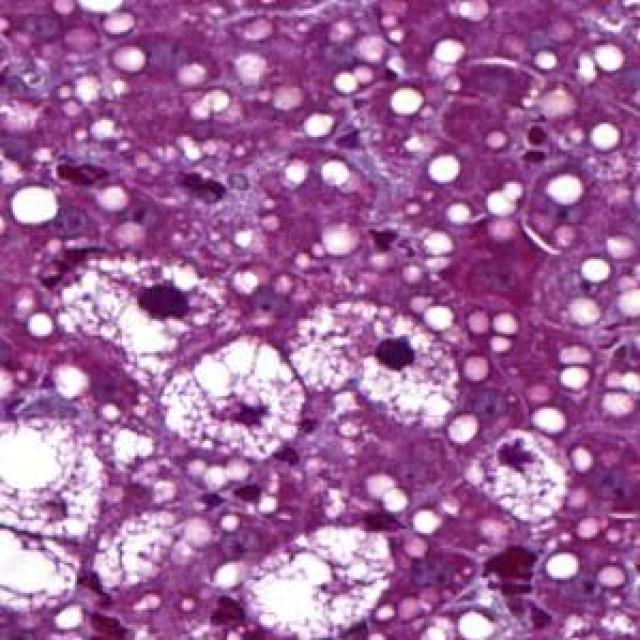ballooning: (274, 291, 471, 445), (233, 501, 396, 640), (154, 328, 310, 473), (56, 250, 231, 362)
